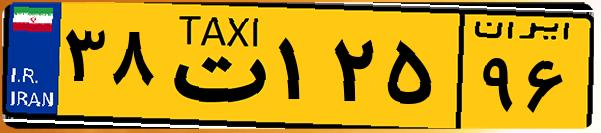1: (270, 28, 330, 110)
2: (330, 28, 385, 110)
3: (57, 26, 110, 100)
5: (385, 28, 445, 110)
6: (525, 38, 570, 115)
8: (110, 28, 158, 98)
9: (475, 38, 525, 113)
ت: (158, 12, 270, 120)
